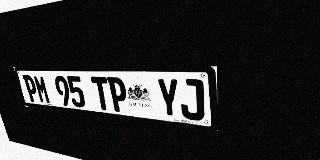5: (66, 76, 87, 108)
9: (53, 76, 73, 106)
J: (179, 79, 205, 121)
M: (33, 75, 51, 104)
P: (107, 77, 129, 113), (22, 75, 40, 103)
T: (91, 77, 112, 111)
Y: (156, 78, 181, 119)
